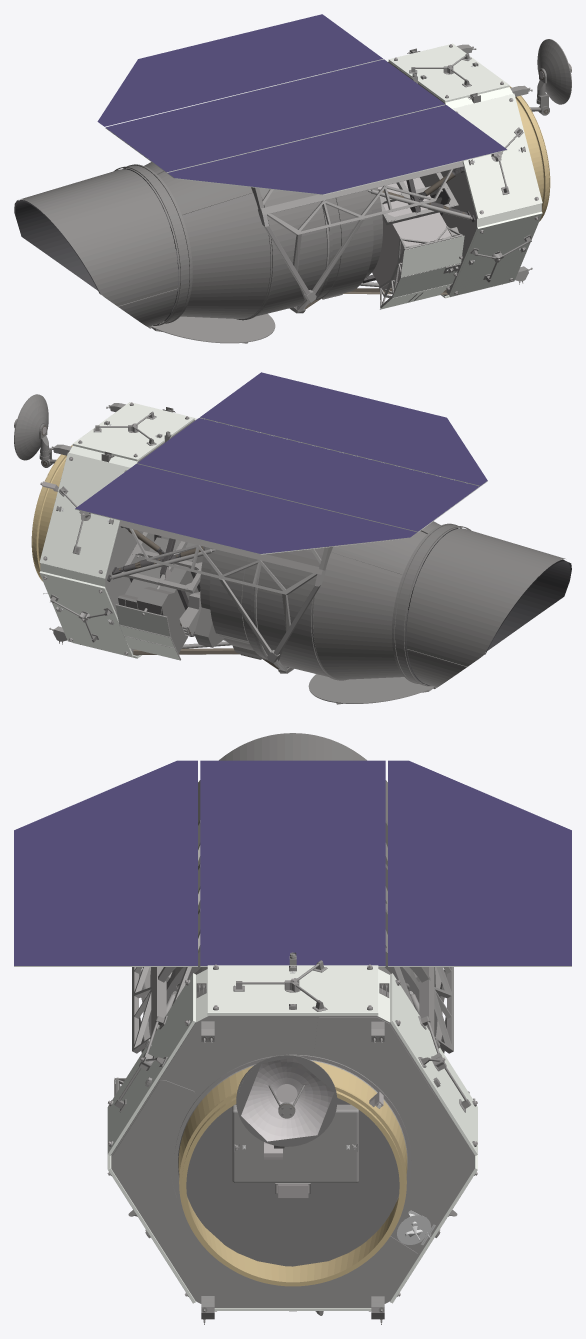
File: roman-low.glb
The picture shows the model from 3 angles, top to bottom: view 1: azimuth 30°, elevation 25°; view 2: azimuth 150°, elevation 25°; view 3: azimuth 270°, elevation 25°; orthographic projection. The views are drawn at different scales.
Parts seen in each view (by area): view 1: afta2015-maintube; view 2: afta2015-maintube; view 3: afta2015-maintube.
Part boxes in pixels (x1,y1,x2,y2): afta2015-maintube: [14, 14, 571, 343]; afta2015-maintube: [14, 372, 571, 704]; afta2015-maintube: [14, 733, 571, 1324].
Bounding box in the file's own units: 344 × 131 × 207.
Materials: 3 (3 with a texture image).
